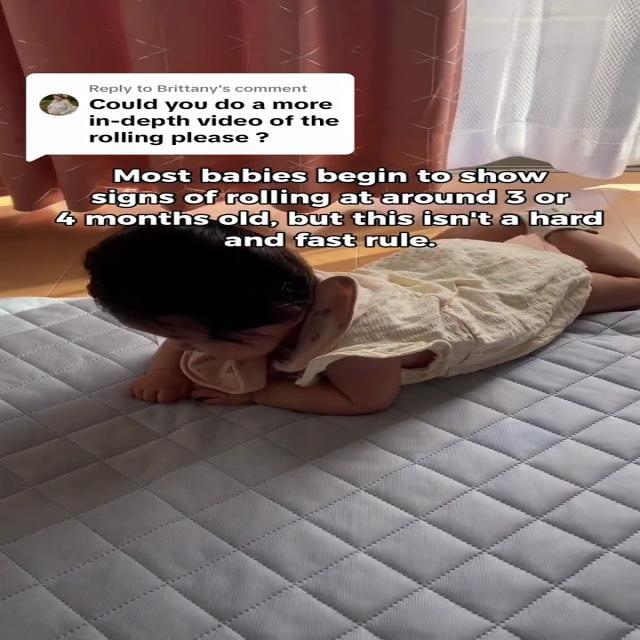baby: (41, 202, 640, 417)
